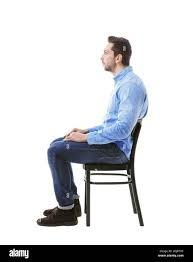bad-pose: (0, 0, 193, 262)
